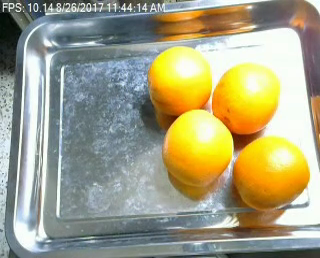Orange: (233, 136, 310, 211), (161, 109, 234, 188), (211, 65, 280, 135), (148, 45, 212, 115)
